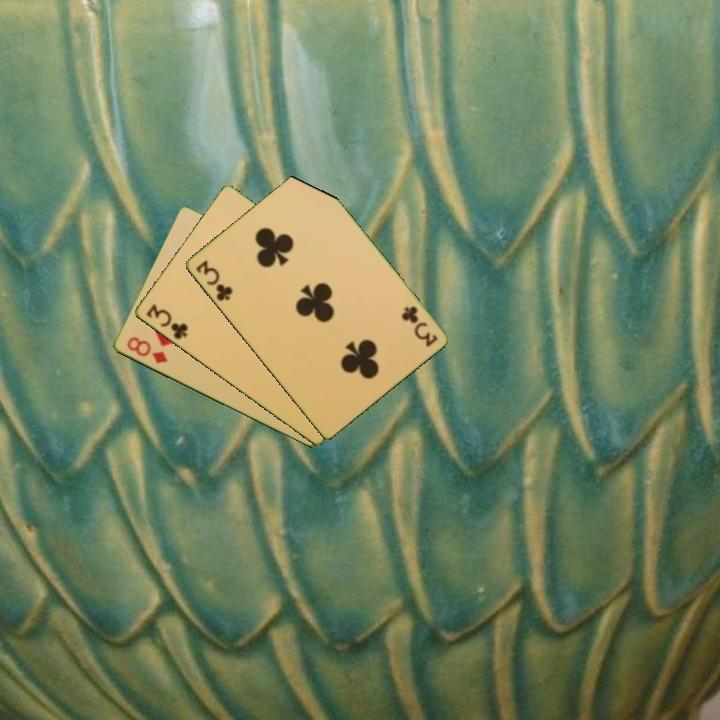3c: (142, 300, 191, 343), (192, 256, 235, 304), (398, 302, 440, 350)
8d: (123, 333, 171, 367)
